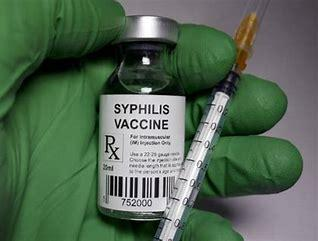Syringe: (92, 11, 190, 223)
